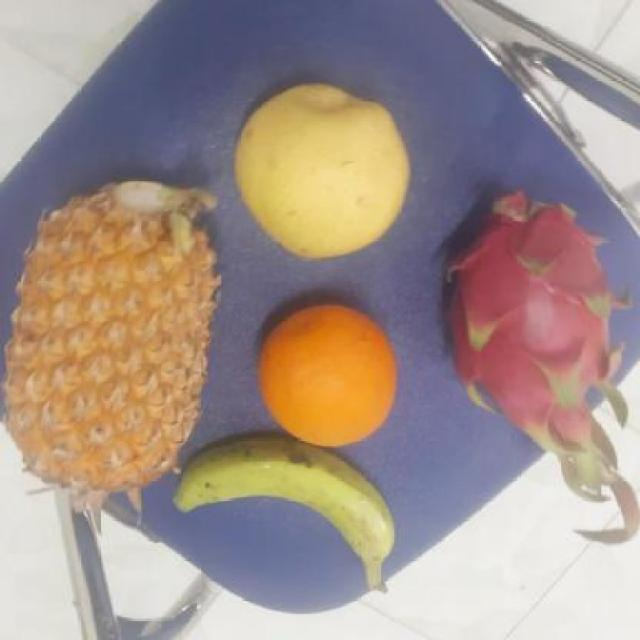banana: (167, 436, 390, 607)
dragon fruit: (428, 189, 627, 449)
oren: (249, 305, 400, 445)
pear: (221, 83, 407, 260)
pineapple: (0, 180, 220, 483)
